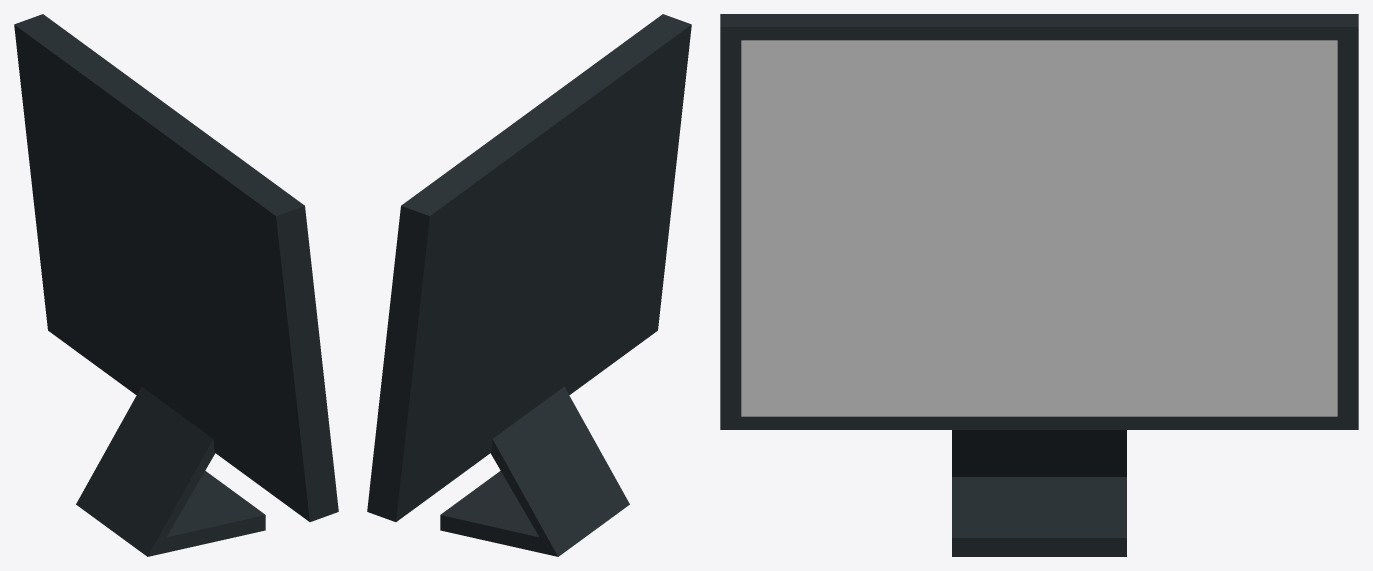
Rendered from display.fbx.
3 views of the same model, side by side, from view 1: azimuth 30°, elevation 25°; view 2: azimuth 150°, elevation 25°; view 3: azimuth 270°, elevation 25° (orthographic). The views are drawn at different scales.
Parts seen in each view (by area): view 1: Cube; view 2: Cube; view 3: Cube.
Part boxes in pixels (x1=…): Cube: x1=14, y1=14, x2=338, y2=556; Cube: x1=367, y1=14, x2=691, y2=556; Cube: x1=720, y1=14, x2=1358, y2=556.
Bounding box in the file's own units: 78.13 × 258 × 300.
